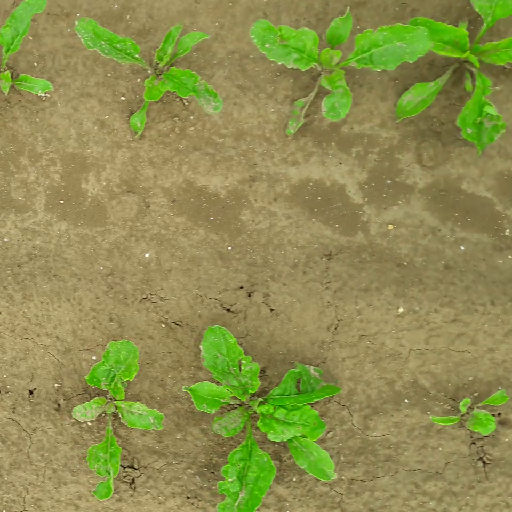sugarbeet: (181, 322, 338, 512), (245, 7, 434, 137), (72, 14, 224, 139), (394, 1, 511, 156), (68, 338, 167, 501), (1, 1, 55, 97), (426, 384, 511, 439)
